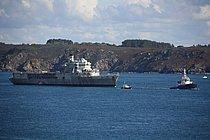MIL_Ship: (8, 51, 122, 86)
